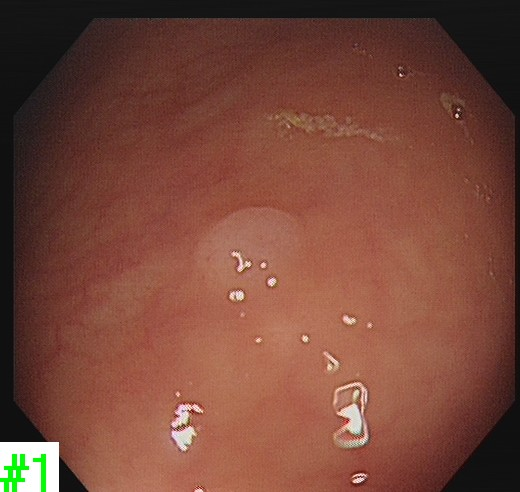others: (190, 204, 304, 301)
